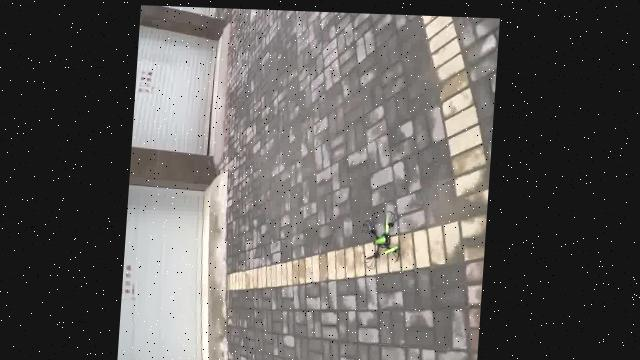drone: (348, 191, 417, 288)
